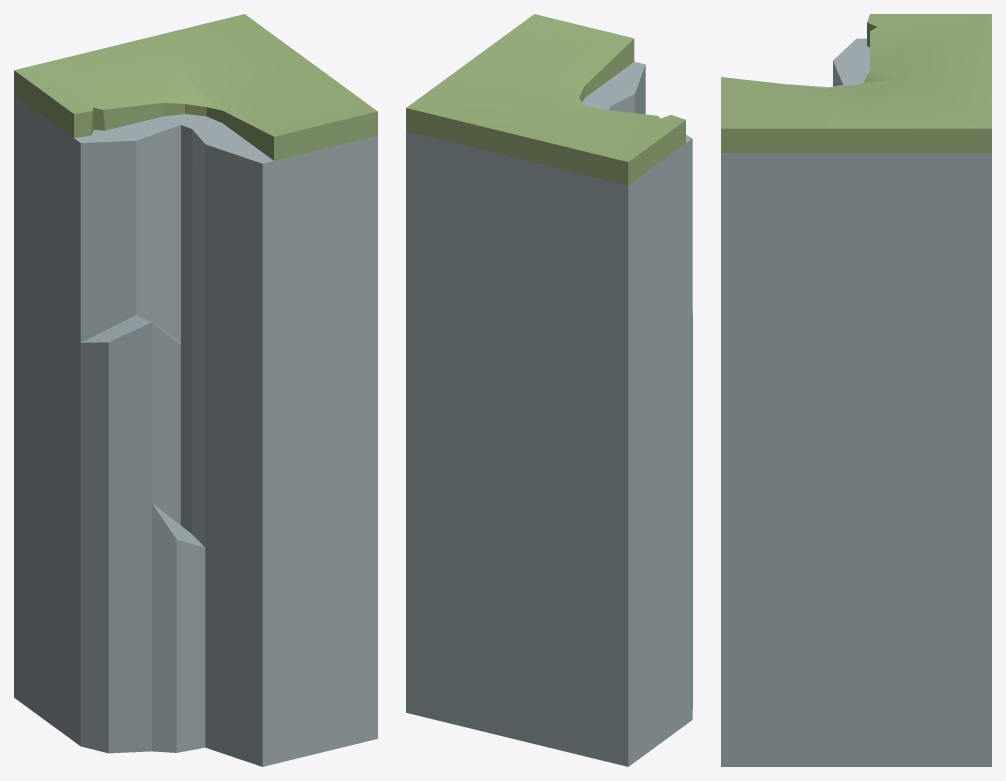
Rendered from Dual_Grid_L_L_L_W.fbx.
3 renders of one model, left to right at view 1: azimuth 30°, elevation 25°; view 2: azimuth 150°, elevation 25°; view 3: azimuth 270°, elevation 25°, orthographic. The views are drawn at different scales.
Parts seen in each view (by area): view 1: Tile_L_L_L_W; view 2: Tile_L_L_L_W; view 3: Tile_L_L_L_W.
Boxes of the visible parts, x1,y1,x2,y2 form: Tile_L_L_L_W: [14, 14, 377, 766]; Tile_L_L_L_W: [406, 14, 692, 766]; Tile_L_L_L_W: [721, 14, 991, 766].
Bounding box in the file's own units: 100 × 100 × 260.
